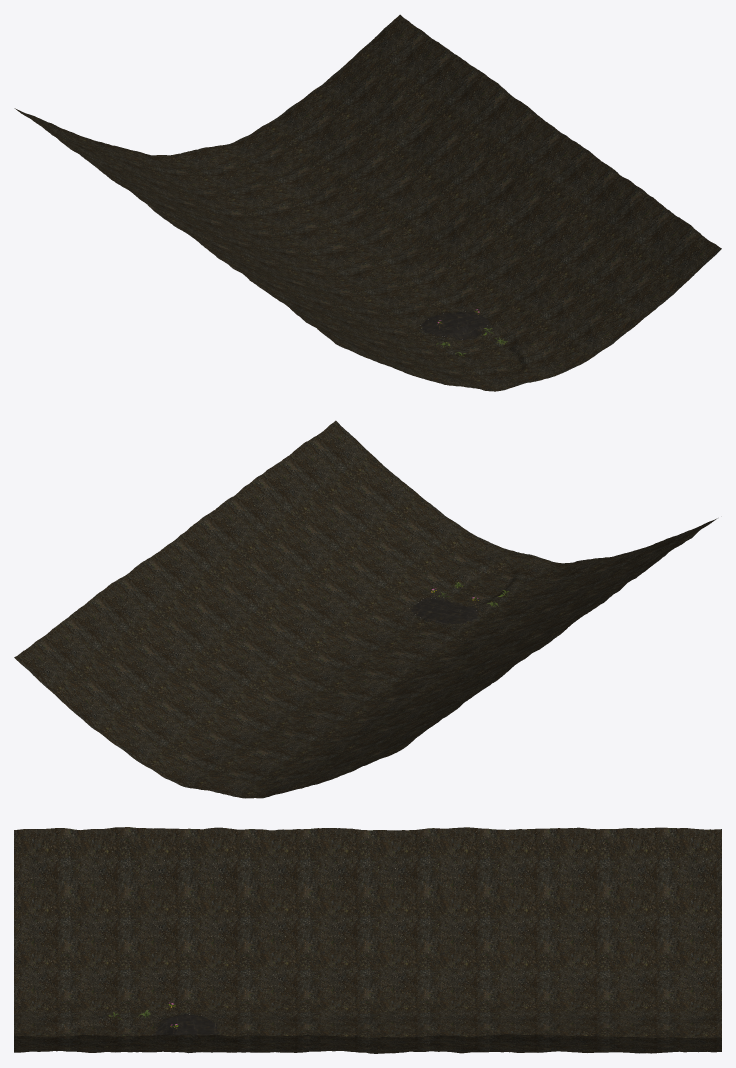
File: forest-basin-patch.glb
The picture shows the model from 3 angles, top to bottom: view 1: azimuth 30°, elevation 25°; view 2: azimuth 150°, elevation 25°; view 3: azimuth 270°, elevation 25°; orthographic projection. The views are drawn at different scales.
Parts seen in each view (by area): view 1: Wet forest floor.001; view 2: Wet forest floor.001; view 3: Wet forest floor.001.
Boxes of the visible parts, <box> form: Wet forest floor.001: <box>14,14,721,391</box>; Wet forest floor.001: <box>14,420,717,798</box>; Wet forest floor.001: <box>14,827,721,1053</box>.
Size of the model in its own units: 18 by 4.15 by 26.
Materials: 5 (5 with a texture image).
